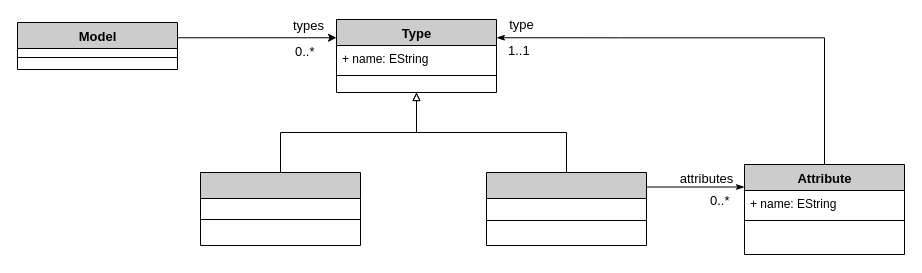
Image size: 922x273. Some labels were removed from this diagram. Each missing label, with the box of its shape:
Entity: (486, 172, 646, 246)
PrimitiveType: (200, 172, 360, 246)
